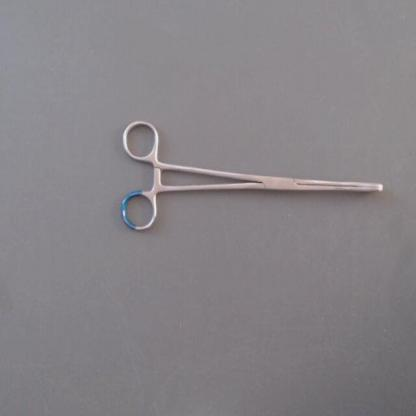Sponge Forceps: (113, 111, 388, 240)
